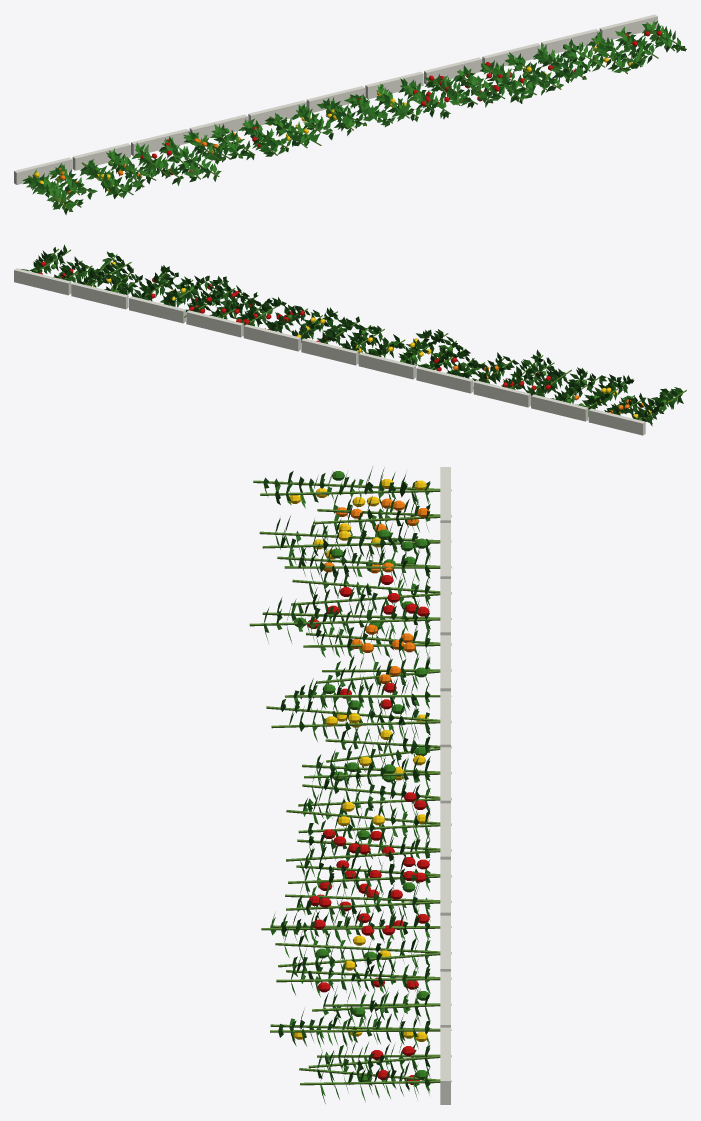
Rendered from row10.obj.
The picture shows the model from 3 angles, top to bottom: view 1: azimuth 30°, elevation 25°; view 2: azimuth 150°, elevation 25°; view 3: azimuth 270°, elevation 25°; orthographic projection. The views are drawn at different scales.
Parts seen in each view (by area): view 1: row10; view 2: row10; view 3: row10.
Boxes of the visible parts, x1=… form: row10: x1=14, y1=14, x2=686, y2=214; row10: x1=14, y1=244, x2=686, y2=435; row10: x1=249, y1=466, x2=451, y2=1104.
Bounding box in the file's own units: 10.98 × 0.4402 × 1.52.
